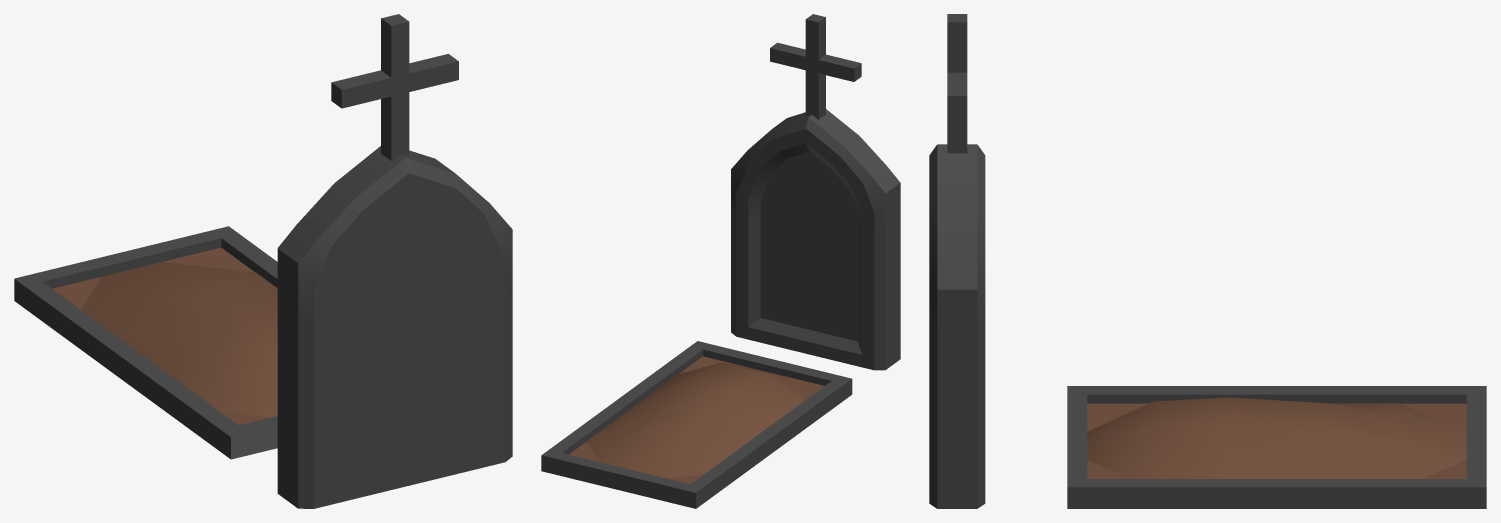
Rendered from Grave_Flat.fbx.
3 renders of one model, left to right at view 1: azimuth 30°, elevation 25°; view 2: azimuth 150°, elevation 25°; view 3: azimuth 270°, elevation 25°, orthographic. The views are drawn at different scales.
Visible parts, largest first — view 1: Grave_Flat; view 2: Grave_Flat; view 3: Grave_Flat.
Part boxes in pixels (<box>): Grave_Flat: <box>14,14,512,508</box>; Grave_Flat: <box>541,14,900,508</box>; Grave_Flat: <box>929,14,1486,508</box>.
Size of the model in its own units: 0.6 by 1.4 by 1.22.
